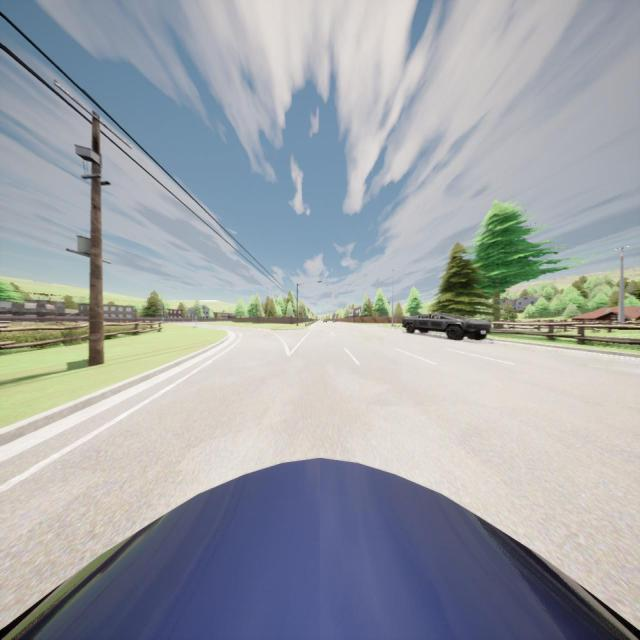Vehicle: (0, 456, 640, 640), (402, 313, 491, 339), (323, 318, 327, 323)
